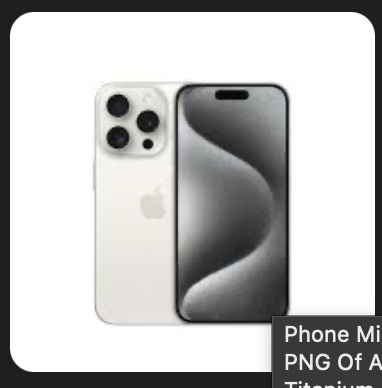phone: (164, 57, 308, 337), (85, 75, 179, 330)
